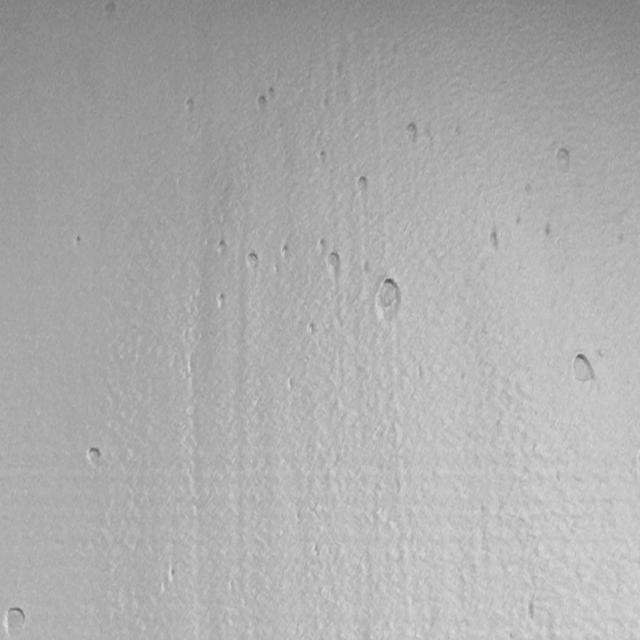pin holes: (371, 274, 403, 326), (567, 351, 596, 386), (3, 604, 28, 640), (552, 145, 573, 175), (84, 444, 105, 470), (325, 249, 344, 277), (403, 120, 422, 146), (352, 175, 371, 201), (162, 566, 182, 590), (179, 95, 198, 119), (522, 598, 539, 623), (101, 1, 121, 22), (244, 250, 260, 276), (488, 229, 502, 251), (215, 292, 229, 312), (279, 242, 292, 262), (215, 237, 229, 255), (539, 223, 553, 241), (71, 232, 85, 250), (255, 94, 268, 111), (317, 236, 329, 254), (316, 150, 328, 166), (304, 322, 316, 338), (286, 373, 294, 397), (263, 85, 275, 100), (511, 215, 522, 230)
